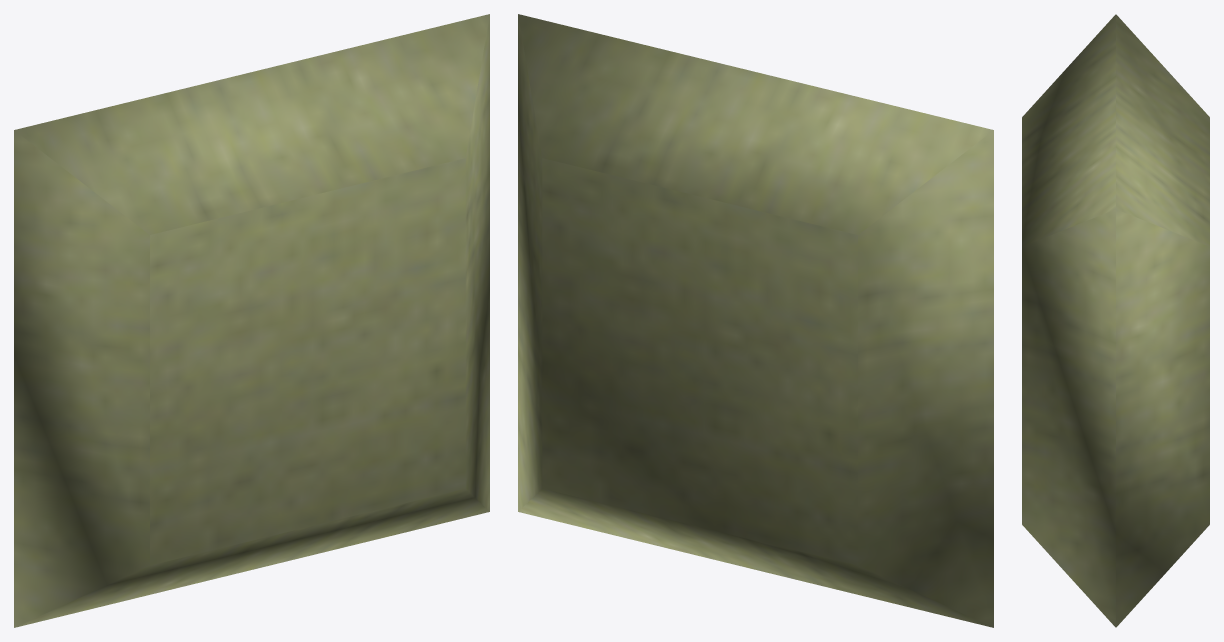
Rendered from SquarePillow_2.fbx.
3 views of the same model, side by side, from view 1: azimuth 30°, elevation 25°; view 2: azimuth 150°, elevation 25°; view 3: azimuth 270°, elevation 25° (orthographic). The views are drawn at different scales.
Visible parts, largest first — view 1: ThrowPillow_Green_01; view 2: ThrowPillow_Green_01; view 3: ThrowPillow_Green_01.
Part boxes in pixels (x1,y1,x2,y2): ThrowPillow_Green_01: (14,14,489,627); ThrowPillow_Green_01: (518,14,993,627); ThrowPillow_Green_01: (1022,14,1209,627).
Bounding box in the file's own units: 0.512 × 0.512 × 0.208.
